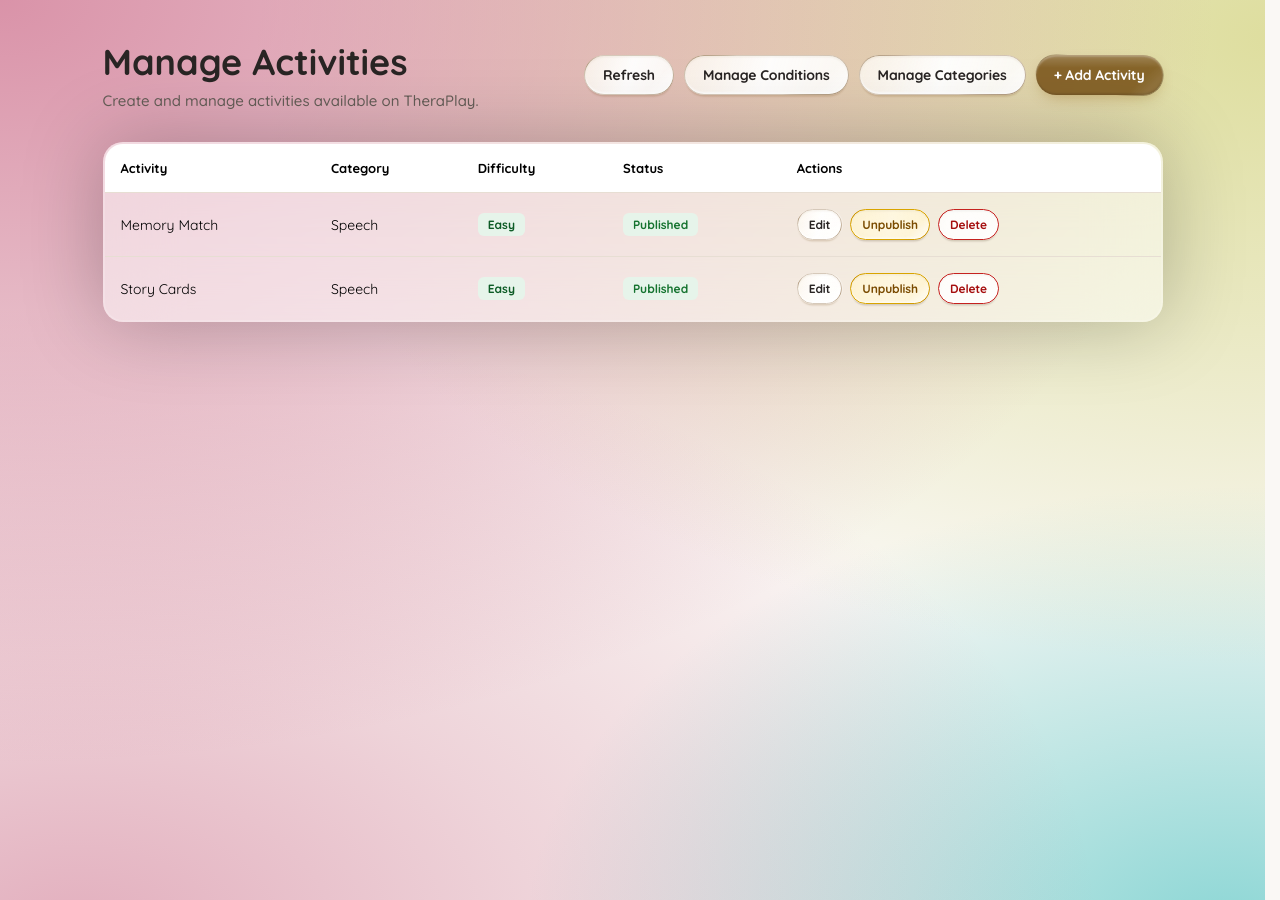
Scenario: Manage Activities: permanent delete › cancelling deletes nothing
What coordinates should you click on to do the following:
click the button with aria-label "Delete Memory Match"
I would click on:
 (968, 225)
Its box is [938, 209, 999, 240].
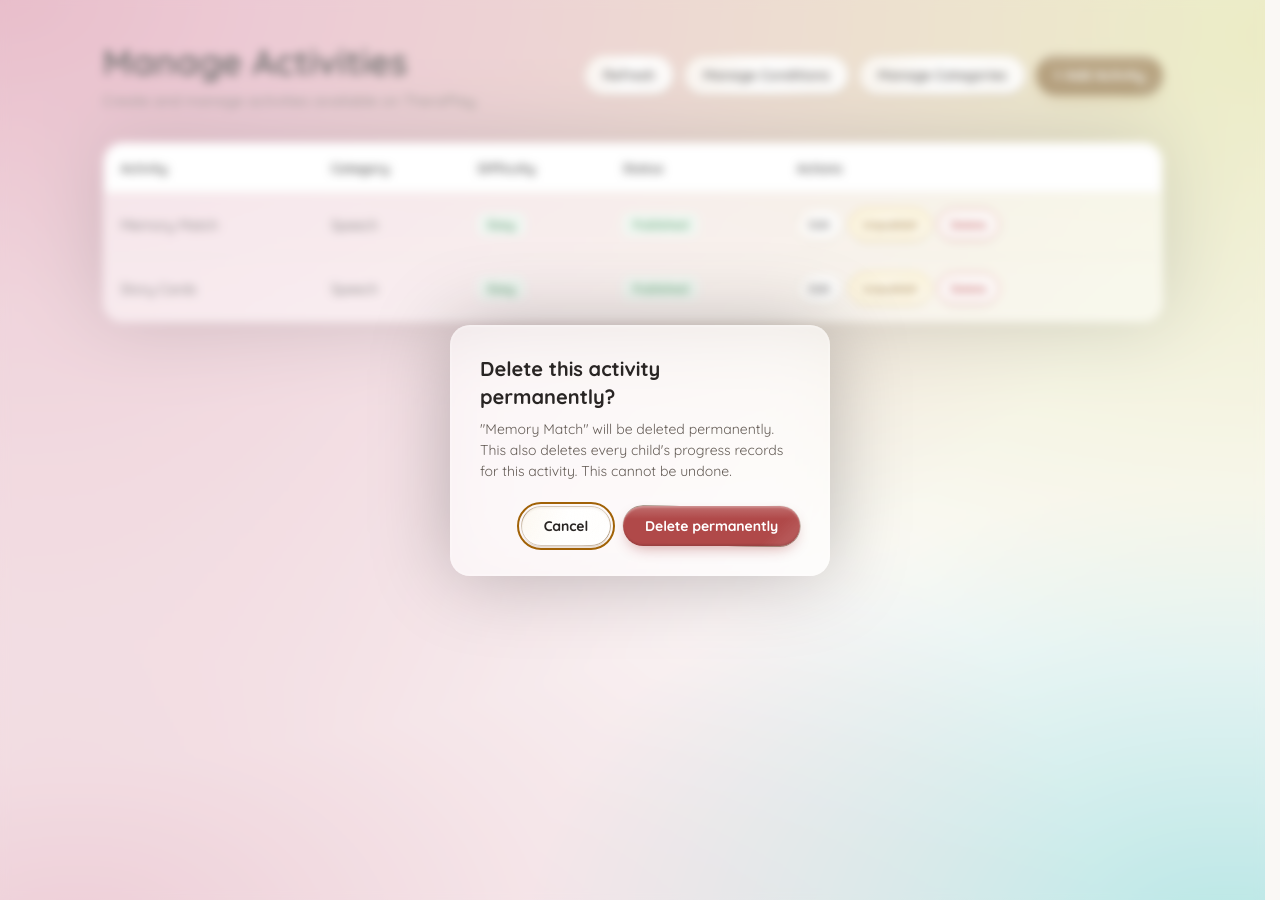
What coordinates should you click on to do the following:
click the button "Cancel"
I would click on:
 (566, 526)
Its box is [521, 506, 611, 546].
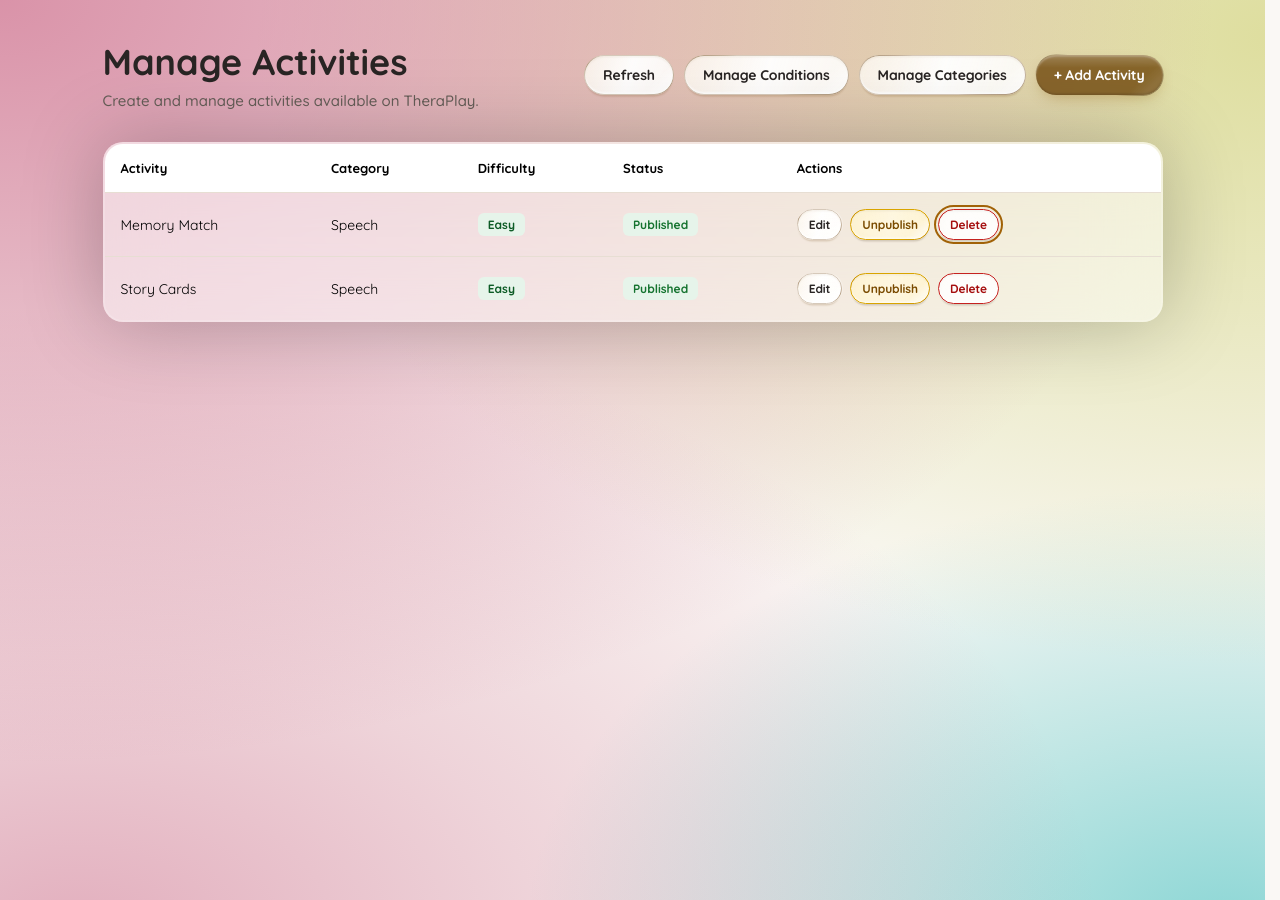
Expected: the text "Memory Match" is shown, [104, 193, 315, 257]
Now the dialog is gone
